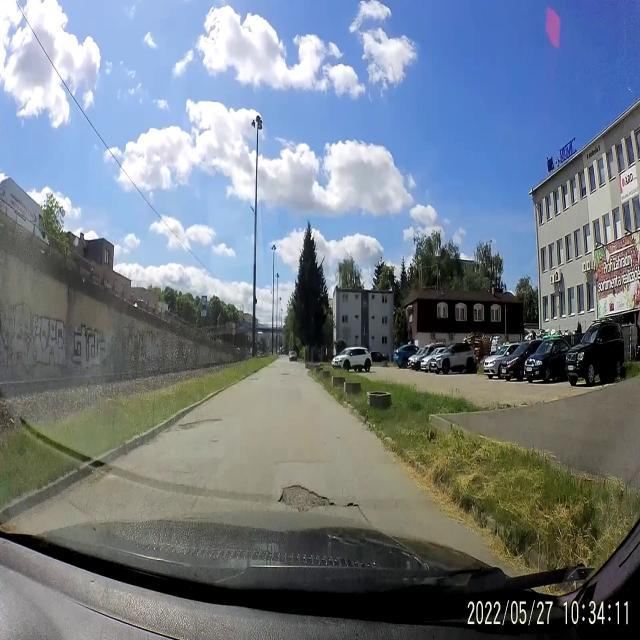Pothole: (276, 476, 332, 512), (178, 414, 224, 431), (343, 494, 367, 518), (246, 373, 260, 384), (278, 370, 292, 380), (334, 436, 344, 440)
